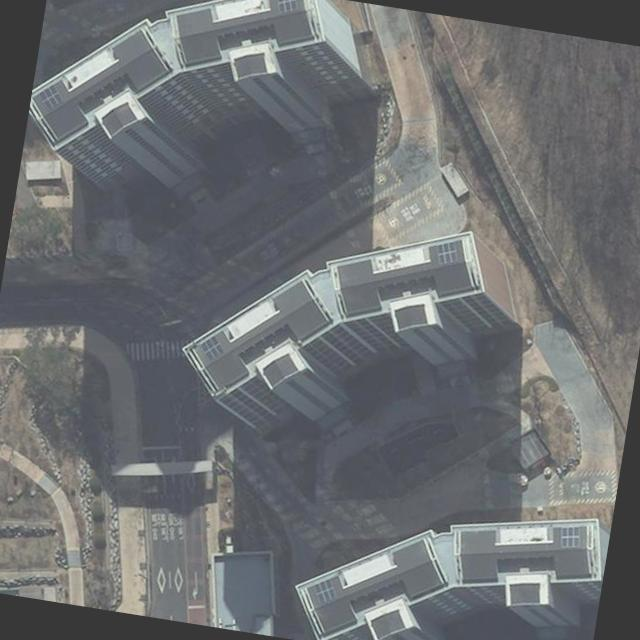solar: (196, 332, 228, 364), (310, 575, 340, 608), (432, 237, 460, 270), (36, 82, 64, 114), (557, 524, 583, 552), (271, 0, 301, 18)
